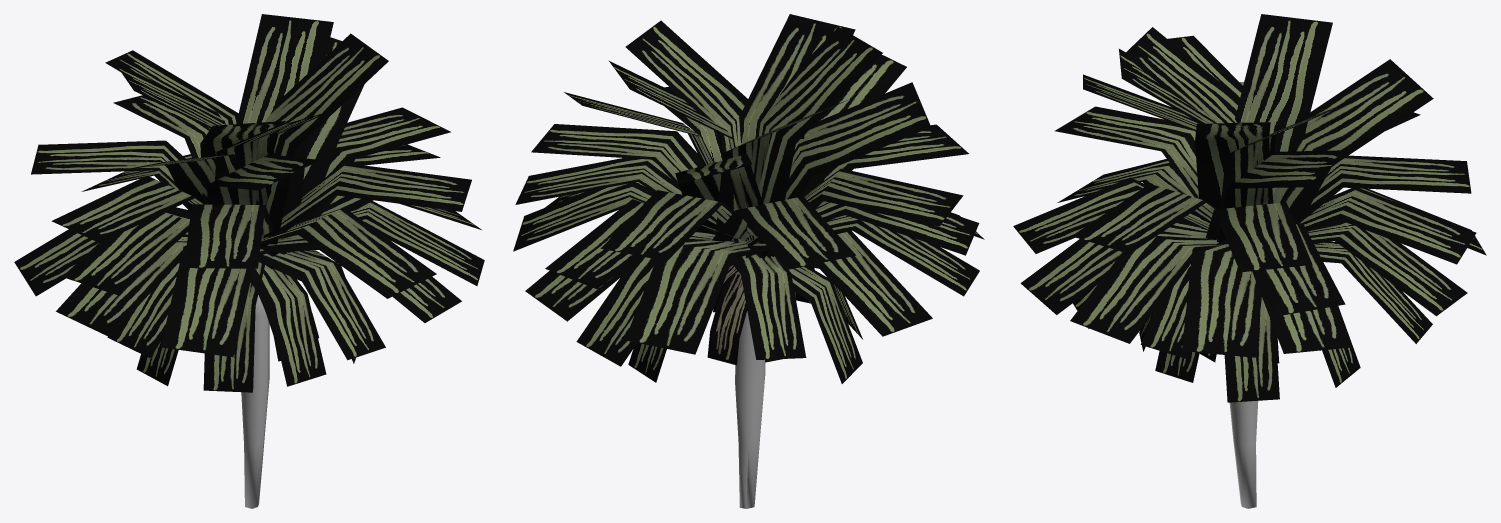
The model's file is xan_2s_LOD1.fbx.
The picture shows the model from 3 angles, left to right: view 1: azimuth 30°, elevation 25°; view 2: azimuth 150°, elevation 25°; view 3: azimuth 270°, elevation 25°; orthographic projection.
Visible parts, largest first — view 1: xan_LOD1; view 2: xan_LOD1; view 3: xan_LOD1.
Part boxes in pixels (x1,y1,x2,y2): xan_LOD1: (14, 14, 484, 508); xan_LOD1: (513, 14, 984, 508); xan_LOD1: (1013, 14, 1486, 508).
Size of the model in its own units: 1401 by 1428 by 1403.
